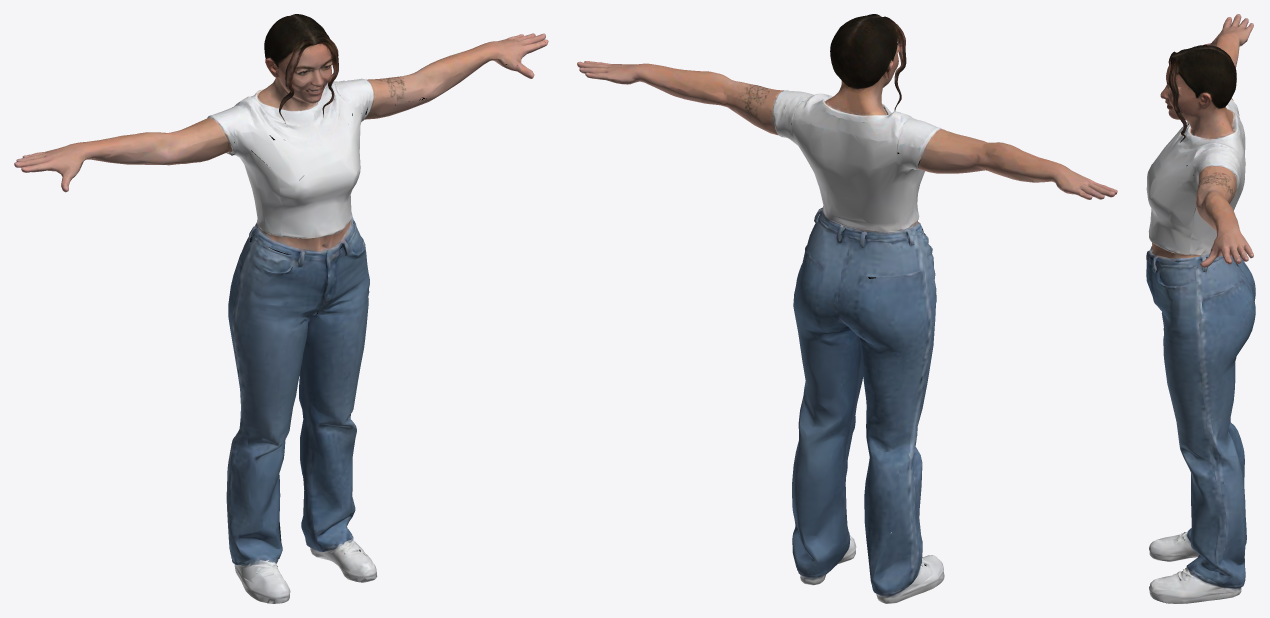
The model's file is chloe.glb.
3 renders of one model, left to right at view 1: azimuth 30°, elevation 25°; view 2: azimuth 150°, elevation 25°; view 3: azimuth 270°, elevation 25°, orthographic. The views are drawn at different scales.
Parts seen in each view (by area): view 1: tommy; view 2: tommy; view 3: tommy.
Part boxes in pixels (x1,y1,x2,y2): tommy: [14, 14, 548, 603]; tommy: [577, 14, 1117, 603]; tommy: [1146, 14, 1255, 603].
Bounding box in the file's own units: 1.7 × 1.7 × 0.3195.
1 material, 1 textured.
